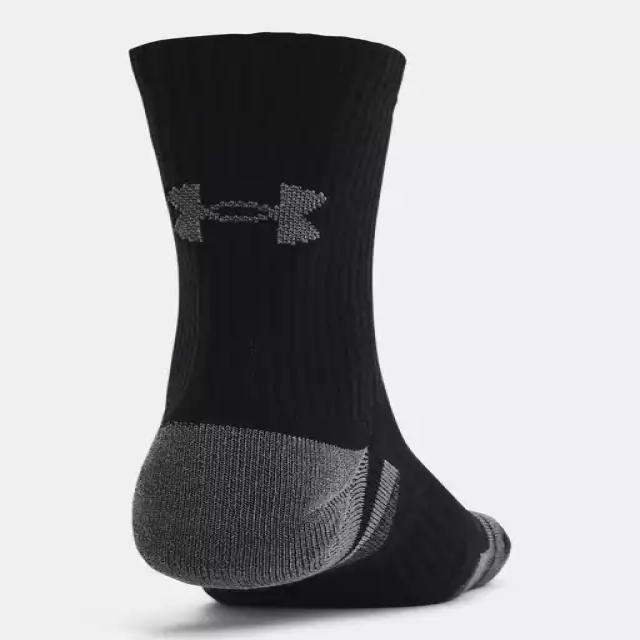sock: (126, 31, 512, 608)
